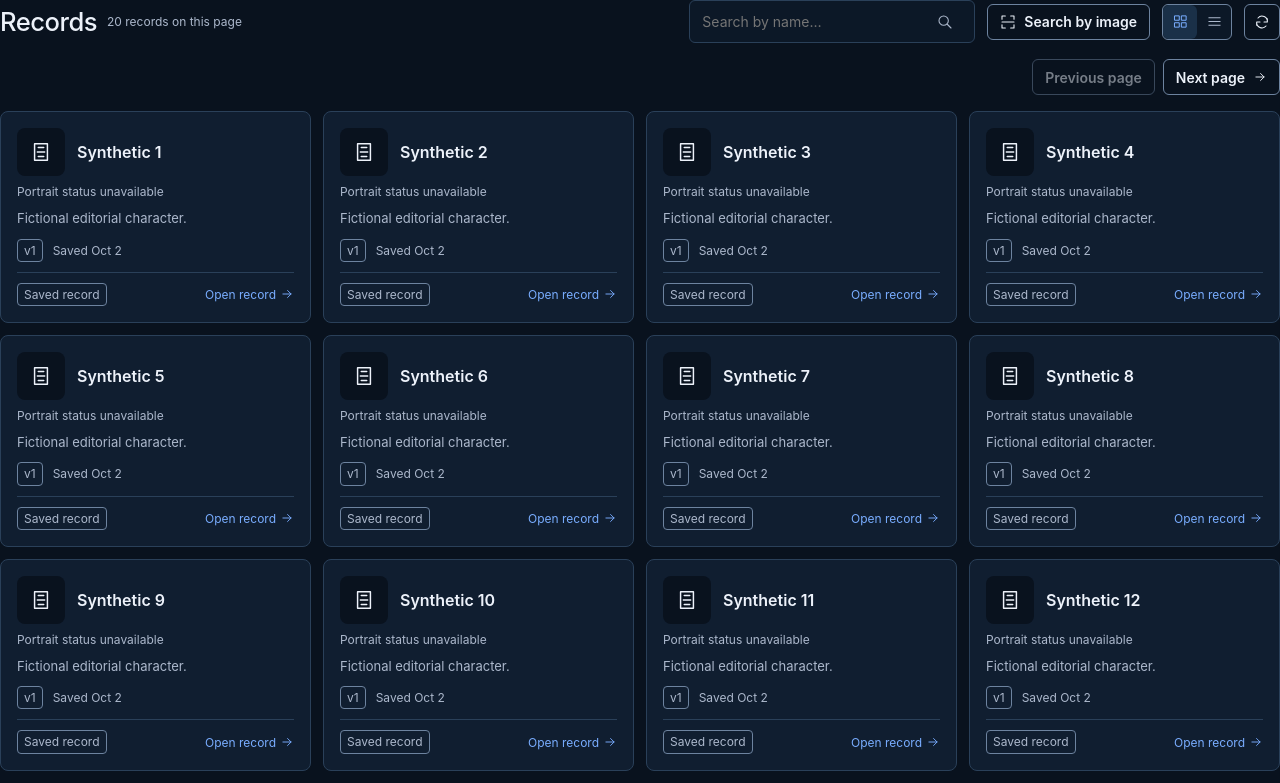
Test case: saved record read surfaces › uses the validated next cursor and clears the preceding page during loading
Step 1. Click the button "Next page" → [1221, 77], box [1163,59,1279,95]
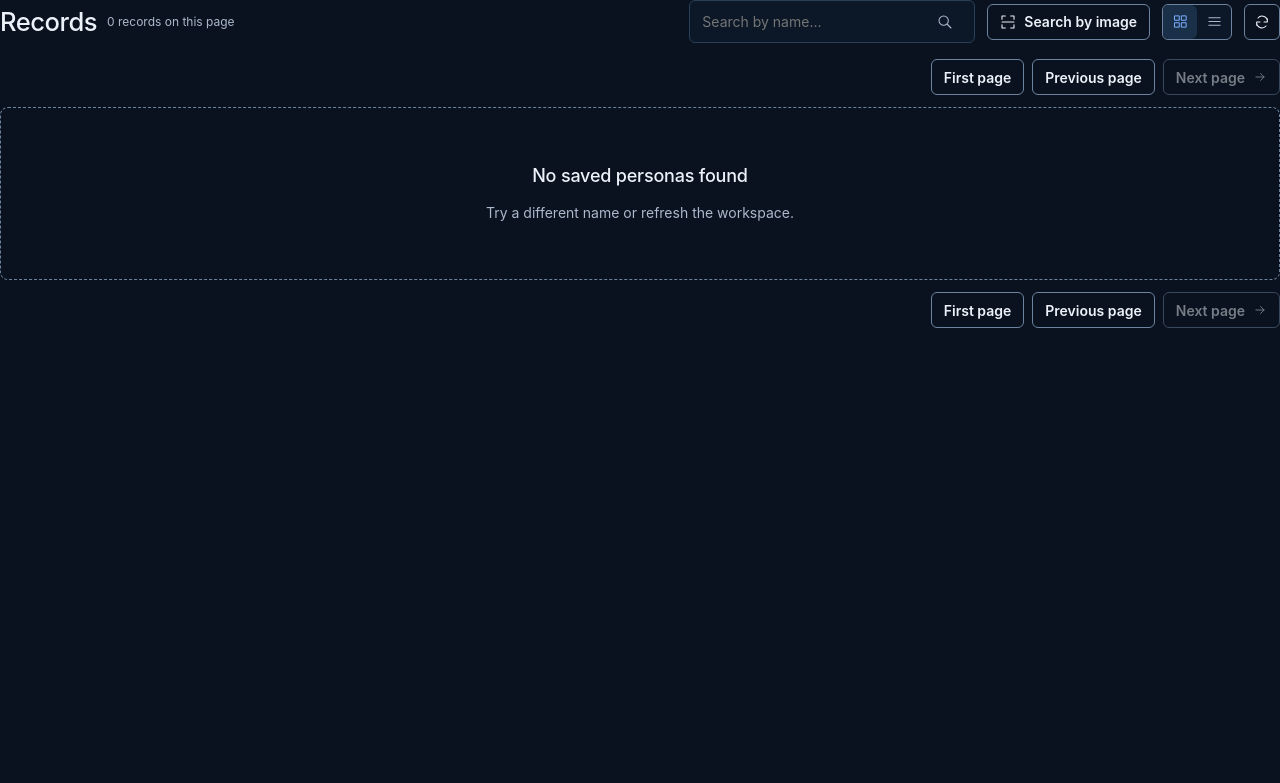
Expected: the button "Synthetic 1" is gone
Expected: the heading "No saved personas found" is shown, [532,165,748,186]
